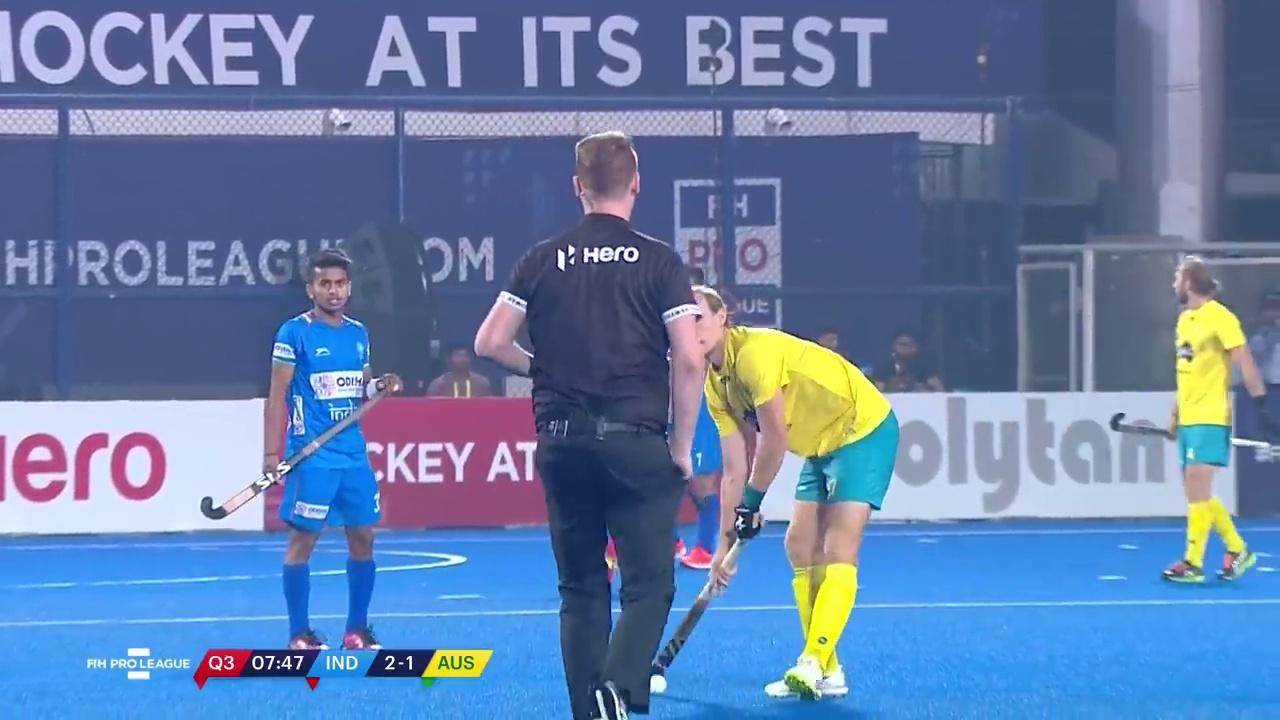ball: (642, 666, 672, 697)
